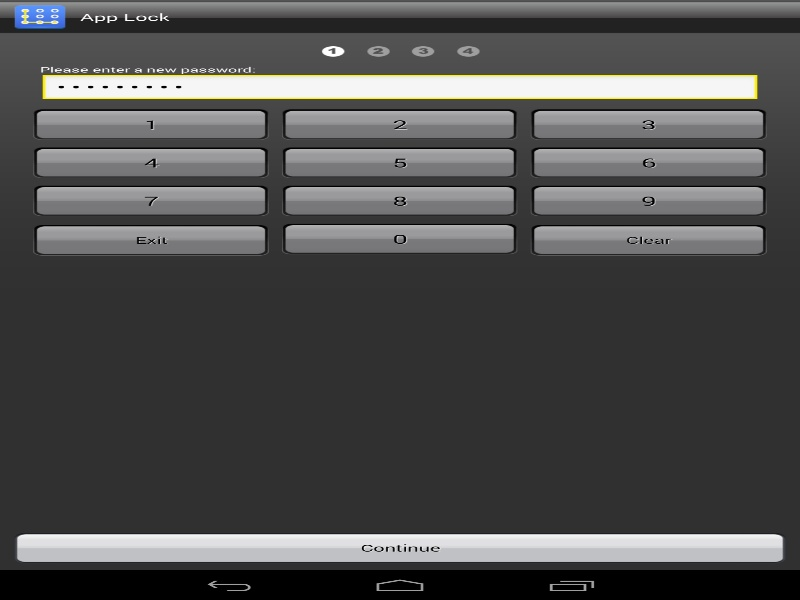Button: (13, 532, 786, 563), (530, 109, 766, 140), (530, 147, 766, 178), (530, 185, 766, 216), (530, 224, 766, 255), (33, 109, 268, 140), (282, 109, 517, 140), (33, 147, 268, 178), (282, 147, 517, 178), (33, 185, 268, 216), (282, 185, 517, 216), (33, 224, 268, 255), (282, 223, 517, 254)
Input: (40, 74, 760, 102)
